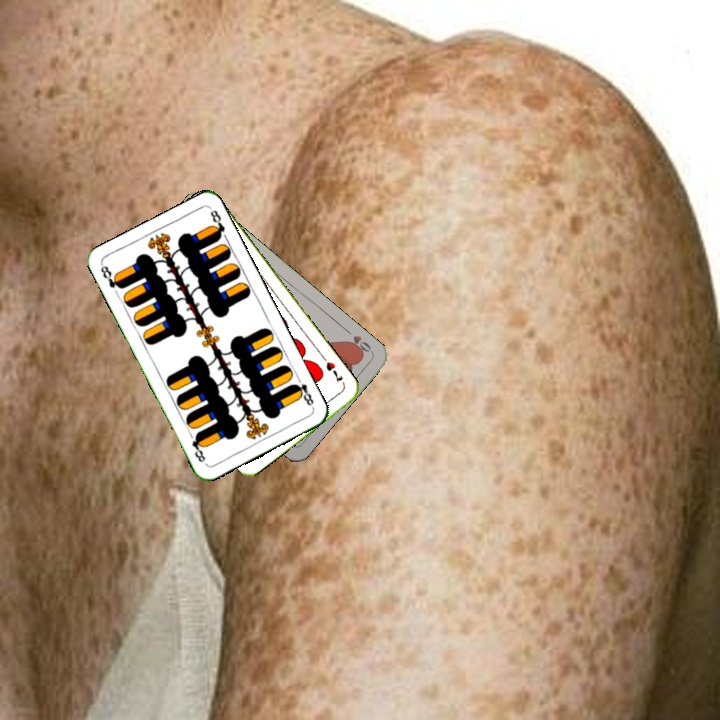E8: (288, 372, 316, 408), (96, 261, 125, 292)
H7: (322, 357, 345, 385)
HO: (341, 325, 375, 357)
